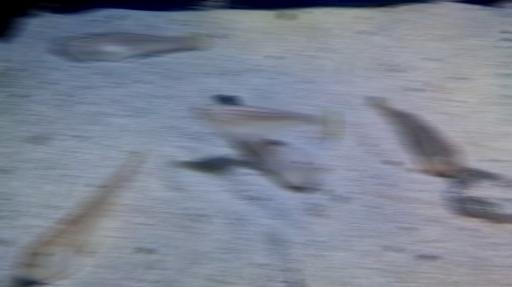Fish: (16, 148, 143, 283), (372, 96, 463, 176), (192, 103, 337, 141), (53, 32, 206, 62), (232, 139, 321, 187), (234, 138, 321, 187)
